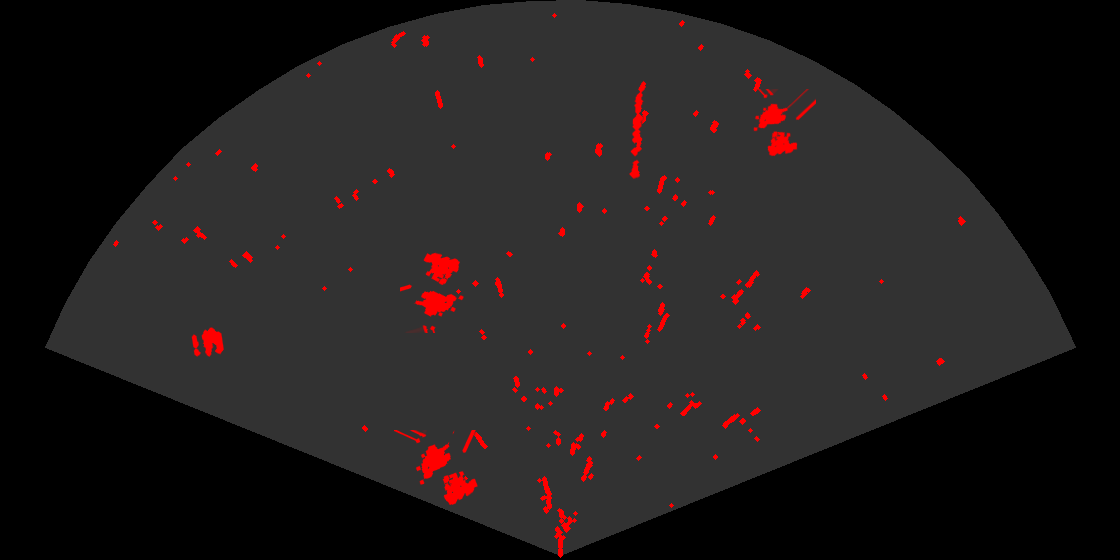ball: (190, 326, 225, 358)
cage: (394, 430, 479, 507), (400, 251, 465, 333), (752, 89, 816, 158)
chain: (628, 79, 648, 179)
